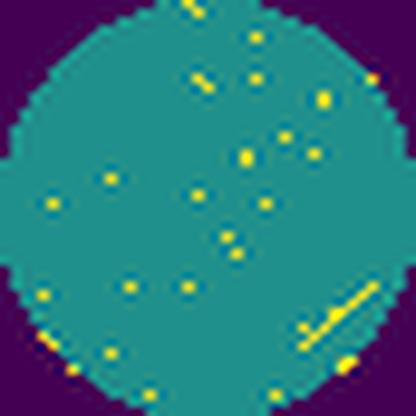Scratch: (289, 277, 386, 360)
